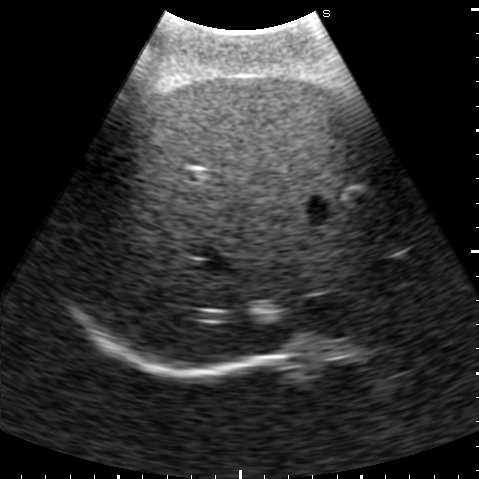S5: (139, 76, 370, 187)
S7: (68, 153, 193, 304)
S8: (118, 171, 399, 364)
Tumor: (249, 300, 285, 325), (340, 185, 369, 204)
